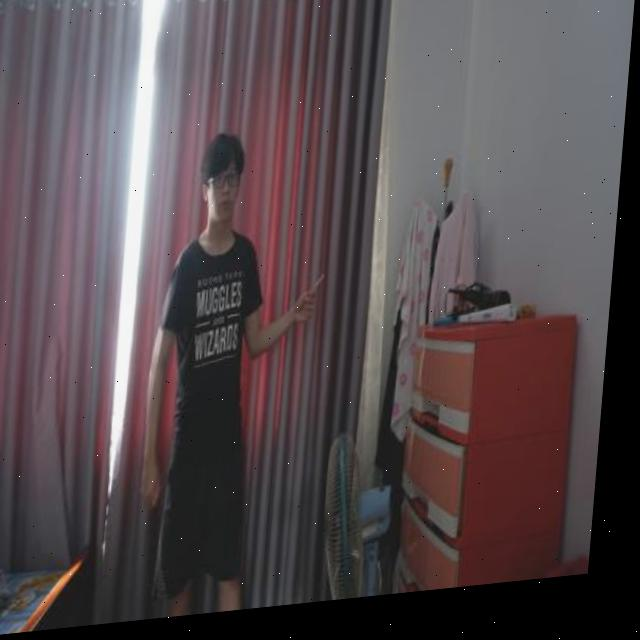cigarette: (315, 281, 330, 303)
